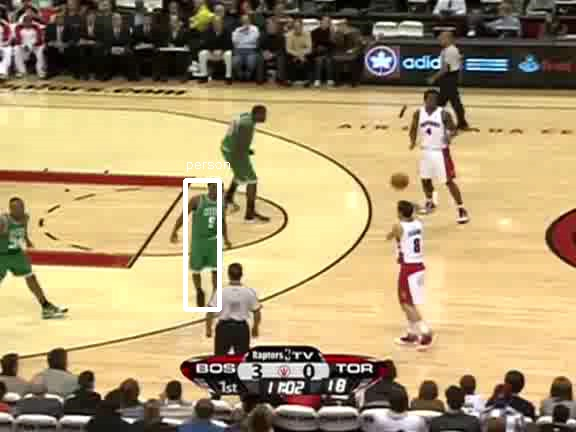person: (192, 194, 226, 275), (191, 194, 225, 275), (193, 194, 227, 275), (192, 193, 226, 274), (192, 195, 226, 276)
target_negative: (60, 171, 487, 275), (74, 157, 170, 199), (120, 276, 192, 323), (157, 377, 489, 383), (218, 340, 230, 416), (516, 327, 559, 328)
